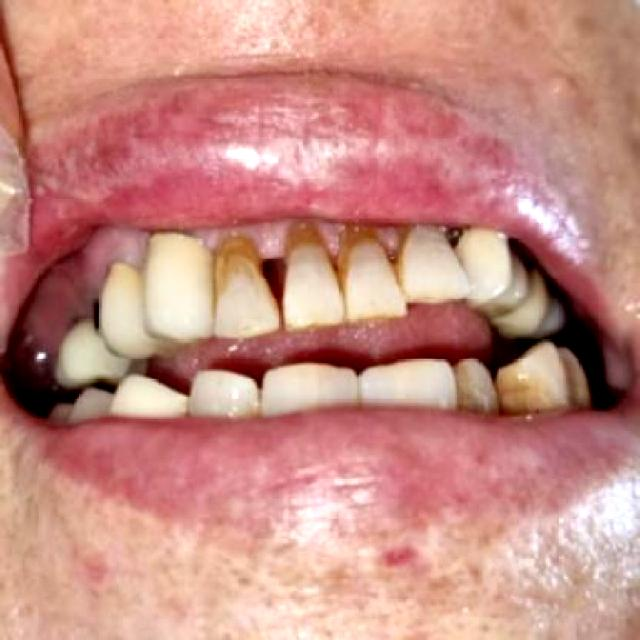Plaque: (492, 365, 552, 419), (452, 364, 495, 412)
